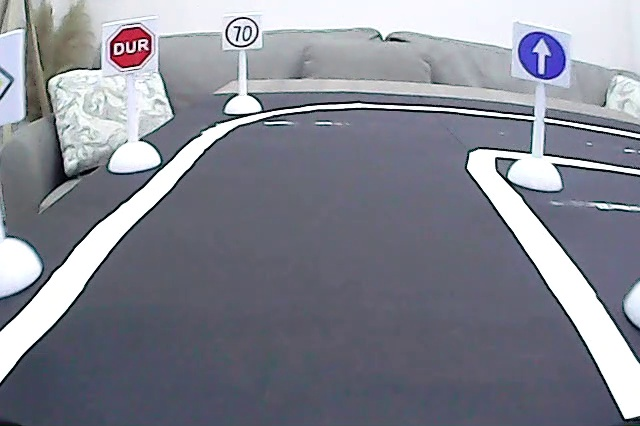speed limit 70: (224, 14, 261, 50)
stop sign: (105, 20, 157, 73)
